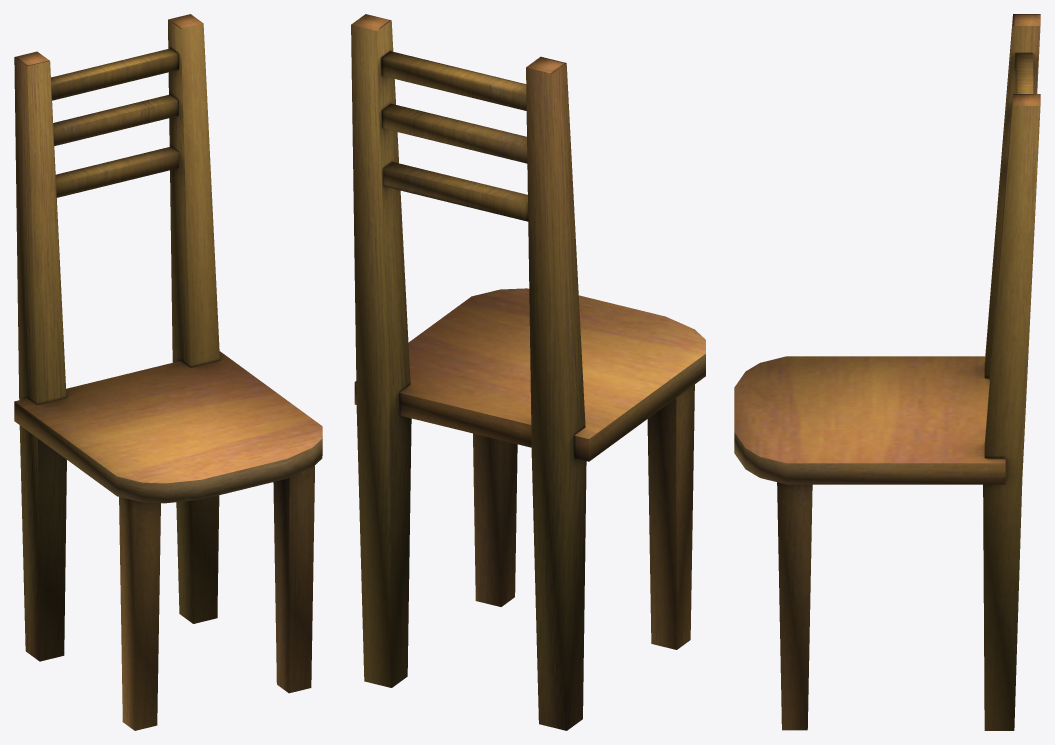
Rendered from office_dining_chair.glb.
3 renders of one model, left to right at view 1: azimuth 30°, elevation 25°; view 2: azimuth 150°, elevation 25°; view 3: azimuth 270°, elevation 25°, orthographic. The views are drawn at different scales.
Visible parts, largest first — view 1: dining_chair; view 2: dining_chair; view 3: dining_chair.
Boxes of the visible parts, left/top/right/bottom form: dining_chair: left=14, top=14, right=322, bottom=730; dining_chair: left=351, top=14, right=705, bottom=730; dining_chair: left=734, top=14, right=1040, bottom=730.
Bounding box in the file's own units: 0.4326 × 1.18 × 0.5223.
Materials: 1 (1 with a texture image).
